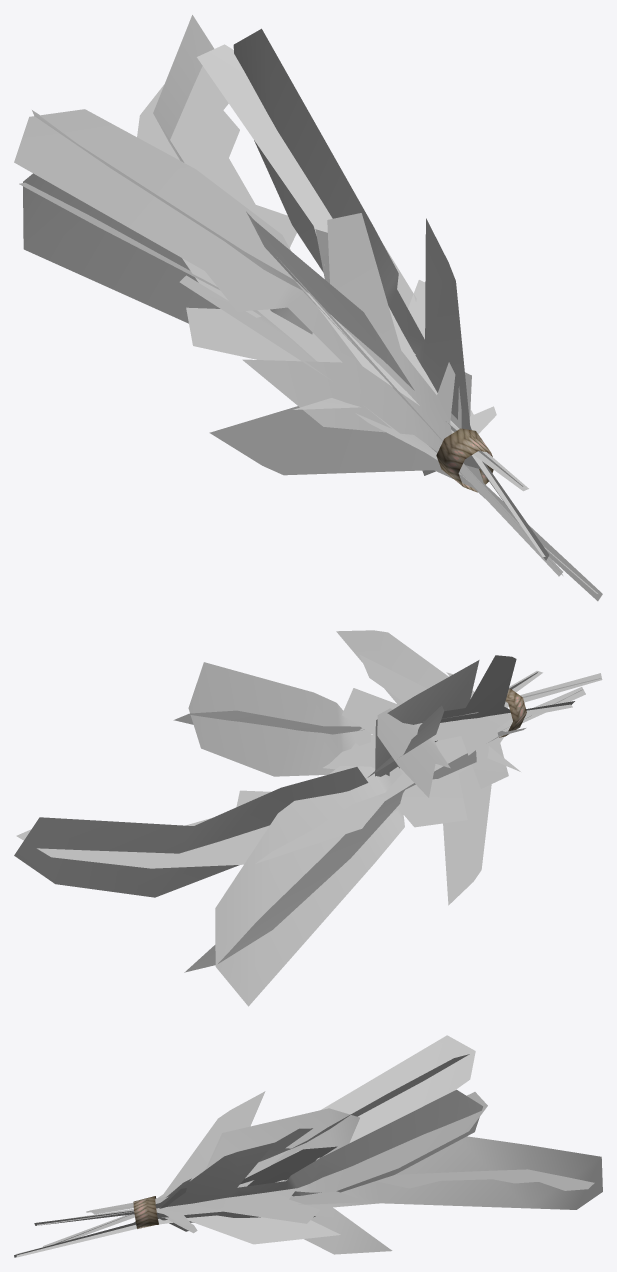
Rendered from village_ambrosia_03.fbx.
3 views of the same model, one above another, from view 1: azimuth 30°, elevation 25°; view 2: azimuth 150°, elevation 25°; view 3: azimuth 270°, elevation 25° (orthographic). The views are drawn at different scales.
Parts seen in each view (by area): view 1: village_ambrosia_03; view 2: village_ambrosia_03; view 3: village_ambrosia_03.
Part boxes in pixels (left/top/right/bottom): village_ambrosia_03: left=14, top=15, right=602, bottom=601; village_ambrosia_03: left=14, top=630, right=602, bottom=1006; village_ambrosia_03: left=14, top=1035, right=602, bottom=1257.
Size of the model in its own units: 19.27 by 16.76 by 49.76.
